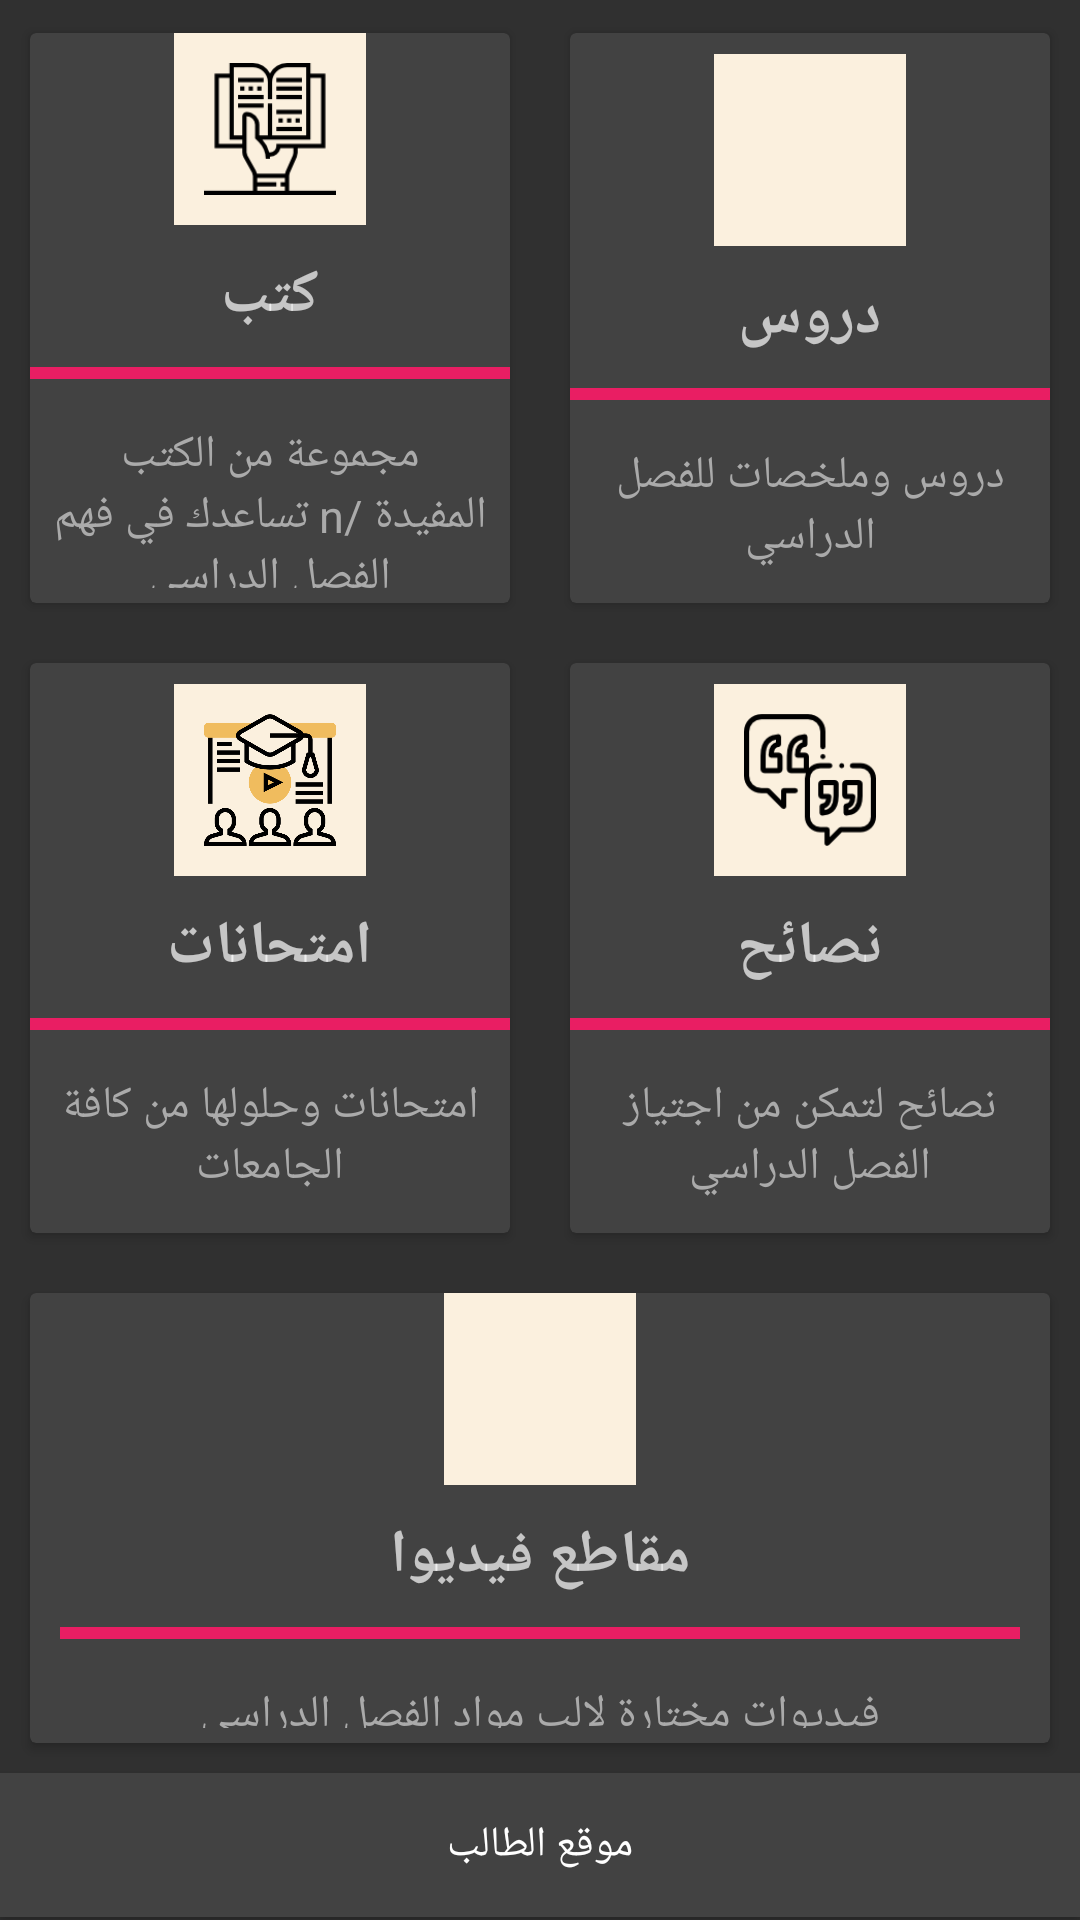

Icons on this 1080w x 1920h Android screen, each with its box as (x1, y1, x2, y2):
quote: (714, 684, 906, 876)
